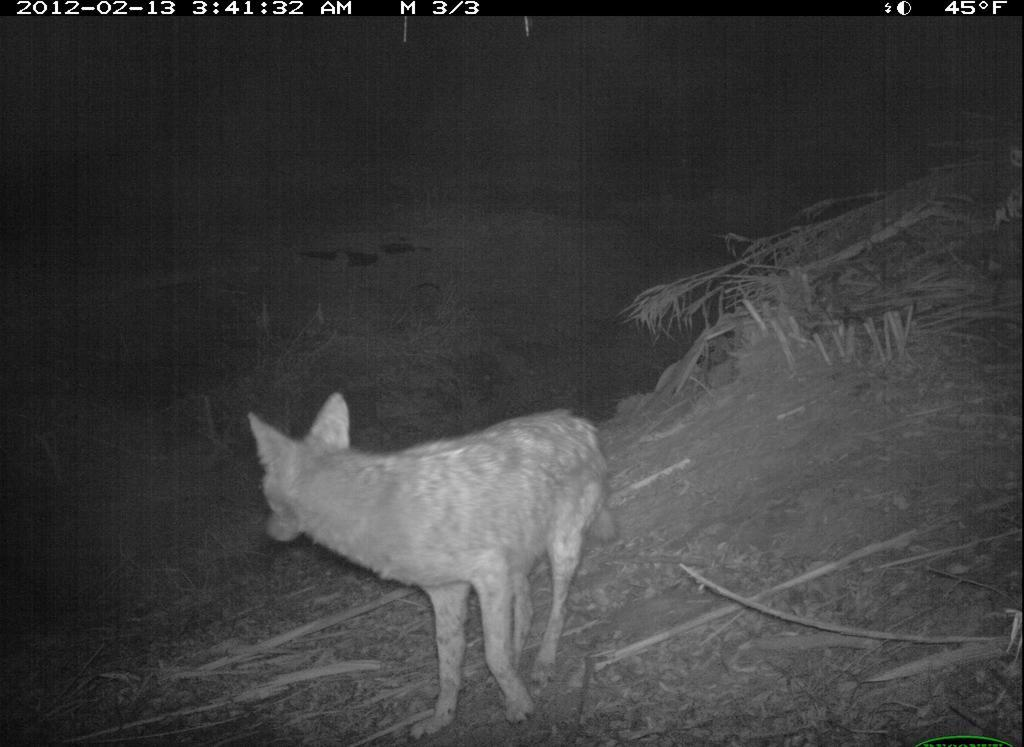coyote: (241, 390, 621, 671)
